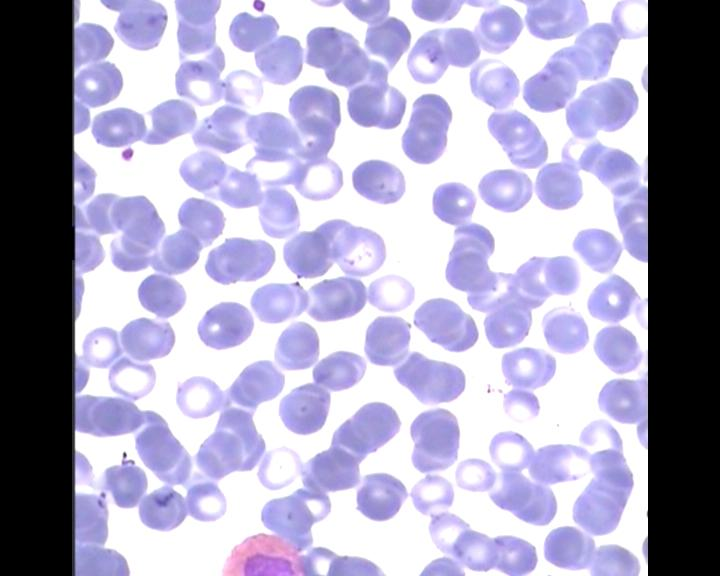eosi: (217, 530, 308, 576)
